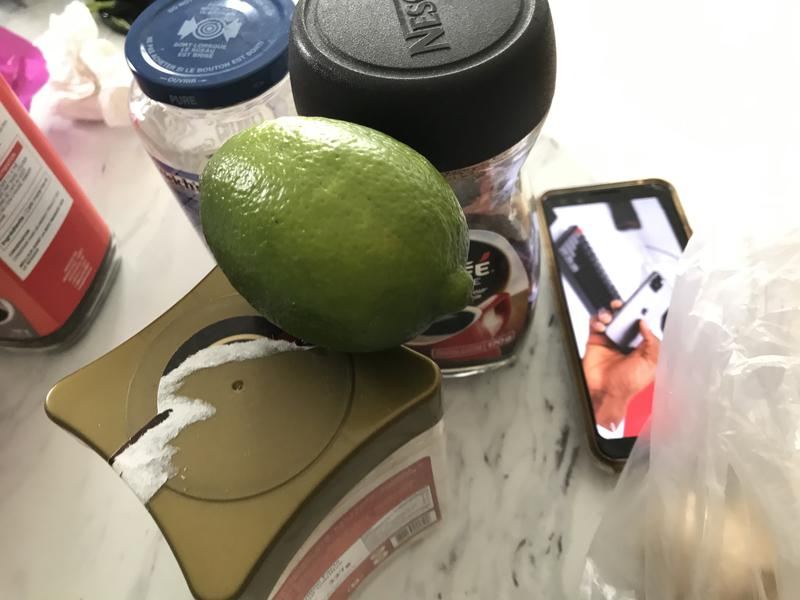lime: (185, 112, 486, 367)
